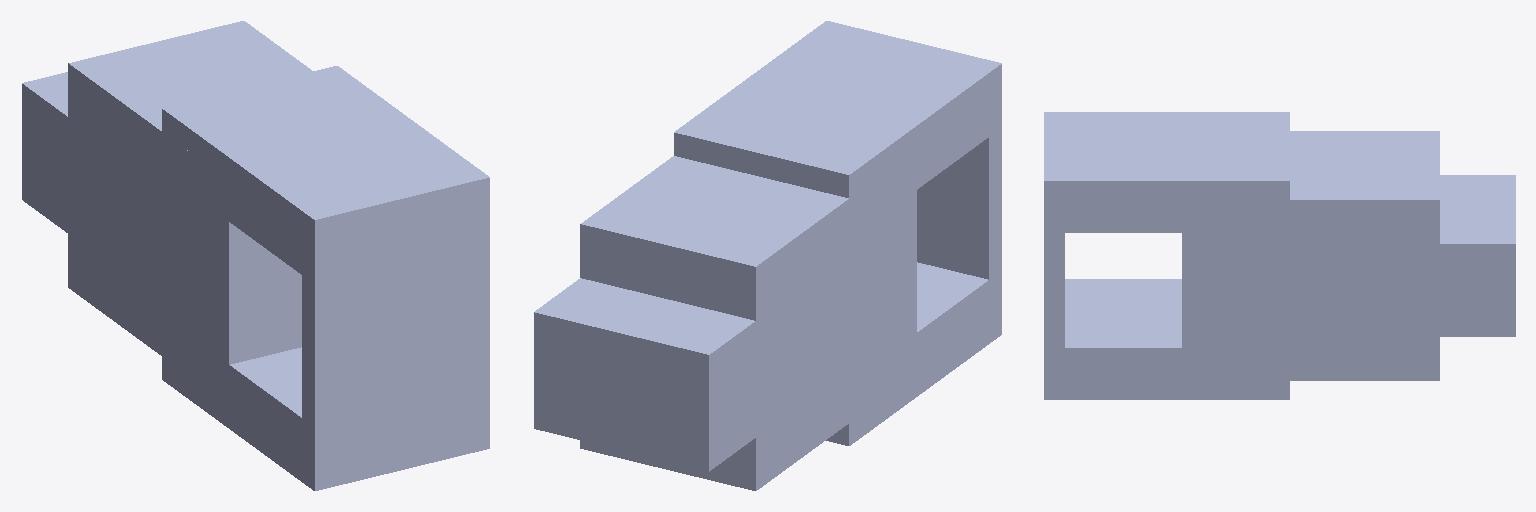
The robot description file, URDF, robot "Gripper_simplifisert urdf":
<?xml version="1.0" encoding="utf-8"?>
<!-- This URDF was automatically created by SolidWorks to URDF Exporter! Originally created by [author] ([email redacted]) 
     Commit Version: 1.6.0-4-g7f85cfe  Build Version: 1.6.7995.38578
     For more information, please see http://wiki.ros.org/sw_urdf_exporter -->
<robot
  name="Gripper_simplifisert urdf">
  <link
    name="base_link">
    <inertial>
      <origin
        xyz="0.0163837503871505 0.0378865186676993 0.00494444132357527"
        rpy="0 0 0" />
      <mass
        value="0.000503751907276557" />
      <inertia
        ixx="8.0850828741336E-09"
        ixy="-6.54161654931106E-25"
        ixz="6.55919809757801E-25"
        iyy="7.67532930677441E-09"
        iyz="-6.43272421121329E-26"
        izz="4.04088266304532E-09" />
    </inertial>
    <visual>
      <origin
        xyz="0 0 0"
        rpy="0 0 0" />
      <geometry>
        <mesh
          filename="package://Gripper_simplifisert urdf/meshes/base_link.STL" />
      </geometry>
      <material
        name="">
        <color
          rgba="0.792156862745098 0.819607843137255 0.933333333333333 1" />
      </material>
    </visual>
    <collision>
      <origin
        xyz="0 0 0"
        rpy="0 0 0" />
      <geometry>
        <mesh
          filename="package://Gripper_simplifisert urdf/meshes/base_link.STL" />
      </geometry>
    </collision>
  </link>
  <link
    name="gripper_right">
    <inertial>
      <origin
        xyz="0.00315 0.00214433187807551 0.00474744348815529"
        rpy="0 0 0" />
      <mass
        value="0.000188432917352885" />
      <inertia
        ixx="2.30415574057775E-09"
        ixy="-2.71325753374622E-26"
        ixz="2.21748409667114E-26"
        iyy="2.19728201258166E-09"
        iyz="3.41171445220796E-11"
        izz="1.17182721001809E-09" />
    </inertial>
    <visual>
      <origin
        xyz="0 0 0"
        rpy="0 0 0" />
      <geometry>
        <mesh
          filename="package://Gripper_simplifisert urdf/meshes/gripper_right.STL" />
      </geometry>
      <material
        name="">
        <color
          rgba="0.792156862745098 0.819607843137255 0.933333333333333 1" />
      </material>
    </visual>
    <collision>
      <origin
        xyz="0 0 0"
        rpy="0 0 0" />
      <geometry>
        <mesh
          filename="package://Gripper_simplifisert urdf/meshes/gripper_right.STL" />
      </geometry>
    </collision>
  </link>
  <joint
    name="gripper_right"
    type="prismatic">
    <origin
      xyz="0.013234 -0.0069935 0.030037"
      rpy="1.5708 0 0" />
    <parent
      link="base_link" />
    <child
      link="gripper_right" />
    <axis
      xyz="0 1 0" />
    <limit
      lower="0.0018"
      upper="0.0046"
      effort="0"
      velocity="0" />
  </joint>
  <link
    name="gripper_left">
    <inertial>
      <origin
        xyz="0.00315 -0.00505566812192448 0.00474744348815529"
        rpy="0 0 0" />
      <mass
        value="0.000188432917352885" />
      <inertia
        ixx="2.30415574057776E-09"
        ixy="1.63898564825673E-25"
        ixz="5.01821890112396E-25"
        iyy="2.19728201258166E-09"
        iyz="3.411714452208E-11"
        izz="1.17182721001809E-09" />
    </inertial>
    <visual>
      <origin
        xyz="0 0 0"
        rpy="0 0 0" />
      <geometry>
        <mesh
          filename="package://Gripper_simplifisert urdf/meshes/gripper_left.STL" />
      </geometry>
      <material
        name="">
        <color
          rgba="0.792156862745098 0.819607843137255 0.933333333333333 1" />
      </material>
    </visual>
    <collision>
      <origin
        xyz="0 0 0"
        rpy="0 0 0" />
      <geometry>
        <mesh
          filename="package://Gripper_simplifisert urdf/meshes/gripper_left.STL" />
      </geometry>
    </collision>
  </link>
  <joint
    name="gripper_left"
    type="prismatic">
    <origin
      xyz="0.019534 -0.0069935 0.038537"
      rpy="-1.5708 0 3.1416" />
    <parent
      link="base_link" />
    <child
      link="gripper_left" />
    <axis
      xyz="0 1 0" />
    <limit
      lower="0.0018"
      upper="0.0046"
      effort="0"
      velocity="0" />
  </joint>
</robot>

--- Render facts (derived) ---
Views: 3 orthographic renders of the robot side by side, from view 1: azimuth 30°, elevation 25°; view 2: azimuth 150°, elevation 25°; view 3: azimuth 270°, elevation 25°.
Robot: Gripper_simplifisert urdf — 3 links, 2 joints (2 prismatic); root link base_link; default pose: all joints at 0 but 2 set to mid-range because 0 is outside their limits (gripper_right = 0.0032, gripper_left = 0.0032).
Links seen in each view (by area): view 1: base_link, gripper_left, gripper_right; view 2: base_link, gripper_left, gripper_right; view 3: base_link, gripper_left, gripper_right.
Boxes of the visible links, <box> form: base_link: <box>22,21,312,404</box>; gripper_left: <box>162,66,489,429</box>; gripper_right: <box>162,239,489,490</box>; base_link: <box>534,149,916,490</box>; gripper_left: <box>674,21,1001,236</box>; gripper_right: <box>826,125,1001,445</box>; base_link: <box>1182,131,1515,380</box>; gripper_left: <box>1044,112,1289,349</box>; gripper_right: <box>1044,279,1289,399</box>.
Size in the robot's own frame: 0.0063 by 0.0182 by 0.0093 metres.
Meshes: 3 distinct files referenced, 3 mesh visuals loaded (3 binary STL).